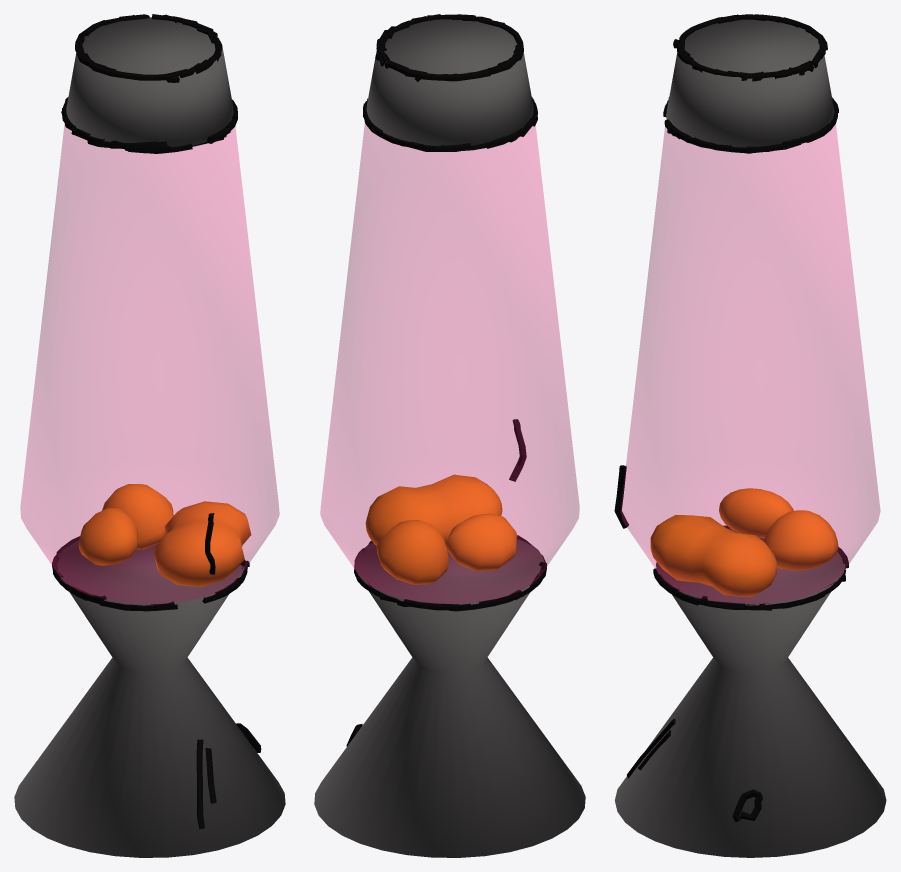
Rendered from lava.glb.
3 renders of one model, left to right at view 1: azimuth 30°, elevation 25°; view 2: azimuth 150°, elevation 25°; view 3: azimuth 270°, elevation 25°, orthographic.
Visible parts, largest first — view 1: glass_lava, lava_base, lines_lava.002, lava1, lava1.002, lava1.001; view 2: glass_lava, lava_base, lines_lava.002, lava1, lava1.001, lava1.002; view 3: glass_lava, lava_base, lava1, lines_lava.002, lava1.001, lava1.002.
Boxes of the visible parts, x1,y1,x2,y2 form: glass_lava: [20, 124, 279, 603]; lava_base: [14, 17, 285, 857]; lines_lava.002: [52, 14, 261, 829]; lava1: [153, 501, 251, 587]; lava1.002: [78, 507, 138, 565]; lava1.001: [102, 484, 173, 549]; glass_lava: [320, 124, 579, 603]; lava_base: [314, 19, 585, 857]; lines_lava.002: [346, 14, 546, 746]; lava1: [365, 474, 502, 545]; lava1.001: [376, 520, 448, 584]; lava1.002: [445, 513, 517, 570]; glass_lava: [621, 117, 880, 603]; lava_base: [615, 19, 886, 857]; lava1: [650, 515, 776, 596]; lines_lava.002: [614, 14, 848, 822]; lava1.001: [763, 510, 838, 570]; lava1.002: [719, 488, 793, 538].
Bounding box in the file's own units: 0.2223 × 0.6819 × 0.2225.
